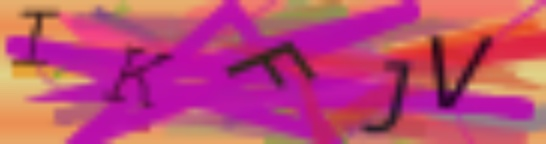F: (221, 37, 321, 93)
I: (10, 6, 64, 70)
J: (357, 57, 415, 137)
K: (102, 45, 177, 113)
V: (423, 29, 496, 112)
